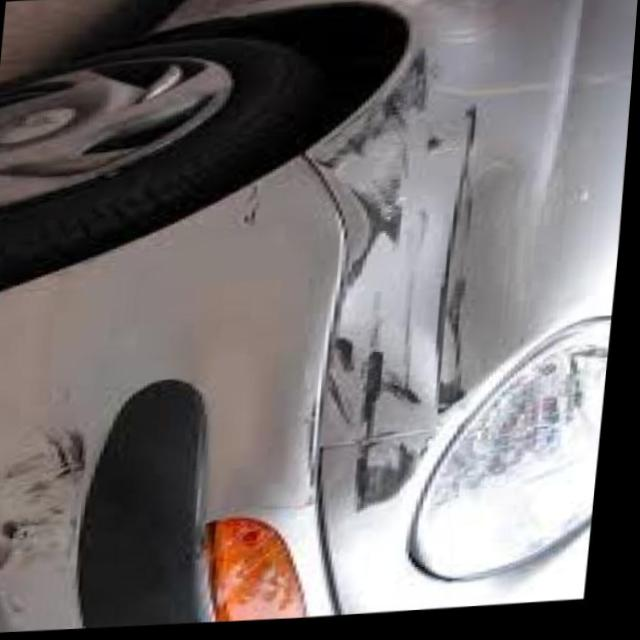Scratch: (269, 57, 496, 527), (0, 428, 103, 593)
